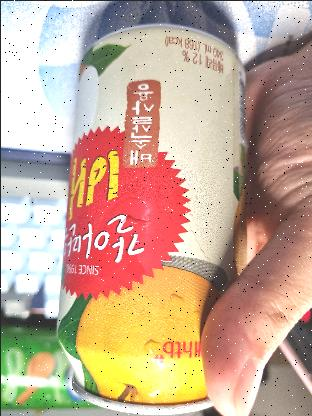Can: (60, 30, 238, 416)
